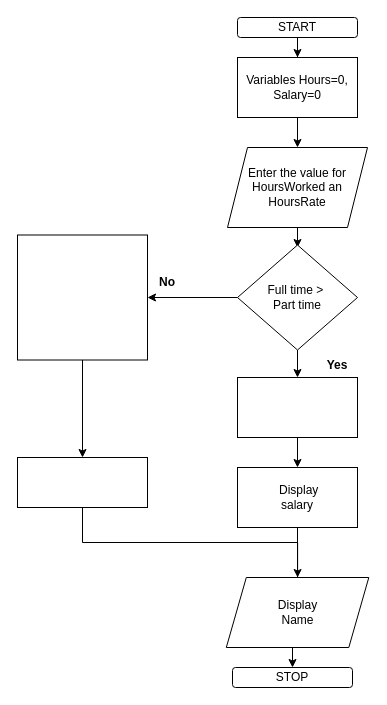
This 387x705 diagram has some shape labels left out. Here are the shapes that lost their labels. From the top down, the centre of each, then its label:
At pixel 82 297: "Rate per hour + total number of hours for the month".
At pixel 297 407: "Get monthly salary rate".
At pixel 82 482: "Display wage".
